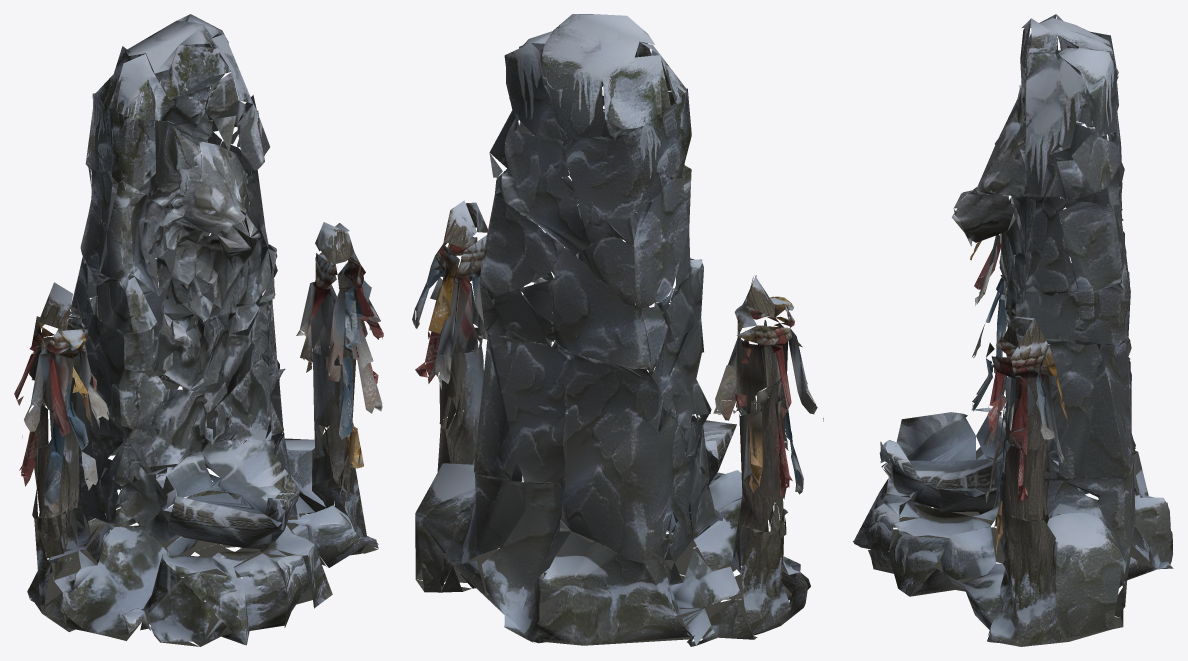
File: IceShrine.fbx
The picture shows the model from 3 angles, left to right: view 1: azimuth 30°, elevation 25°; view 2: azimuth 150°, elevation 25°; view 3: azimuth 270°, elevation 25°; orthographic projection. The views are drawn at different scales.
Parts seen in each view (by area): view 1: IceShrine_Body; view 2: IceShrine_Body; view 3: IceShrine_Body.
Part boxes in pixels (box(x1,y1,x2,y2)): IceShrine_Body: box(14, 14, 383, 646); IceShrine_Body: box(412, 14, 823, 646); IceShrine_Body: box(853, 14, 1173, 646).
Bounding box in the file's own units: 0.7152 × 1 × 0.5368.
1 material, 1 textured.
